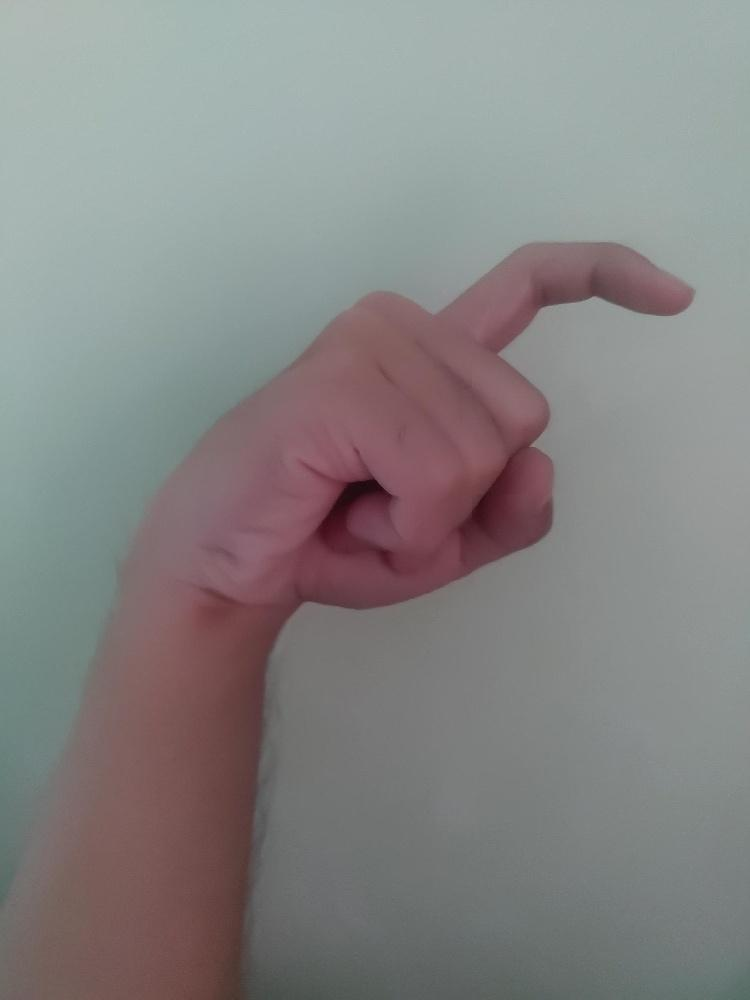x: (175, 237, 696, 613)
